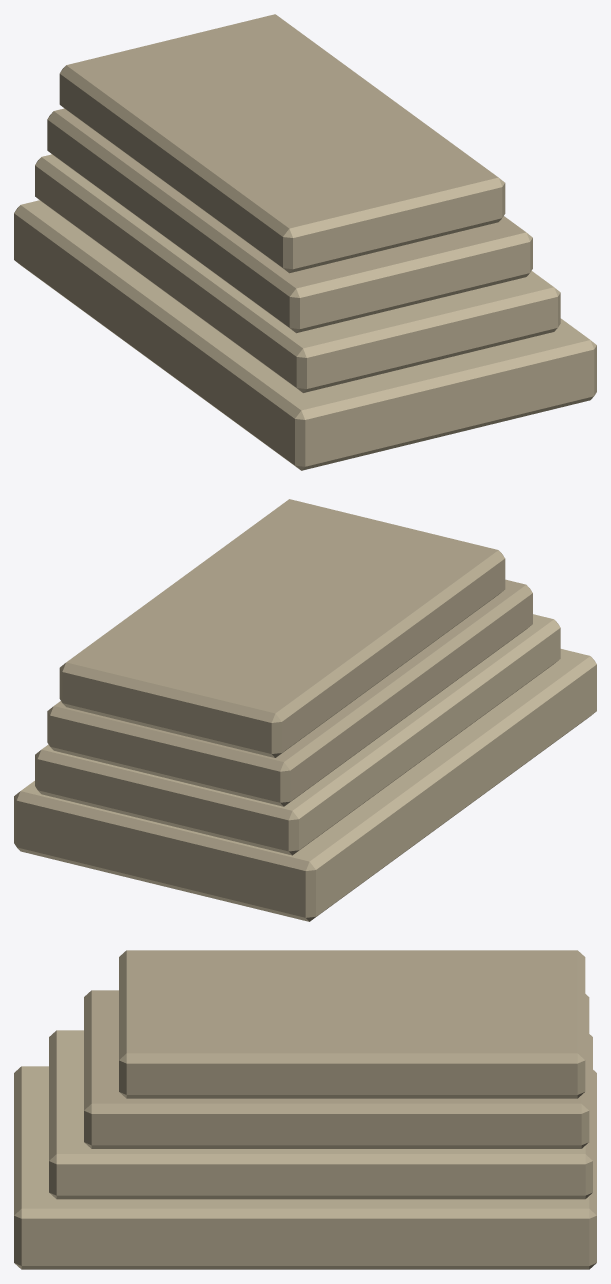
Rendered from crawler_hull_heavy.glb.
3 renders of one model, top to bottom at view 1: azimuth 30°, elevation 25°; view 2: azimuth 150°, elevation 25°; view 3: azimuth 270°, elevation 25°, orthographic.
Parts seen in each view (by area): view 1: crawler_hull_heavy; view 2: crawler_hull_heavy; view 3: crawler_hull_heavy.
Part boxes in pixels (x1,y1,x2,y2): crawler_hull_heavy: (14, 14, 596, 470); crawler_hull_heavy: (14, 499, 596, 921); crawler_hull_heavy: (14, 950, 596, 1269).
Size of the model in its own units: 5.2 by 3.2 by 8.6.
